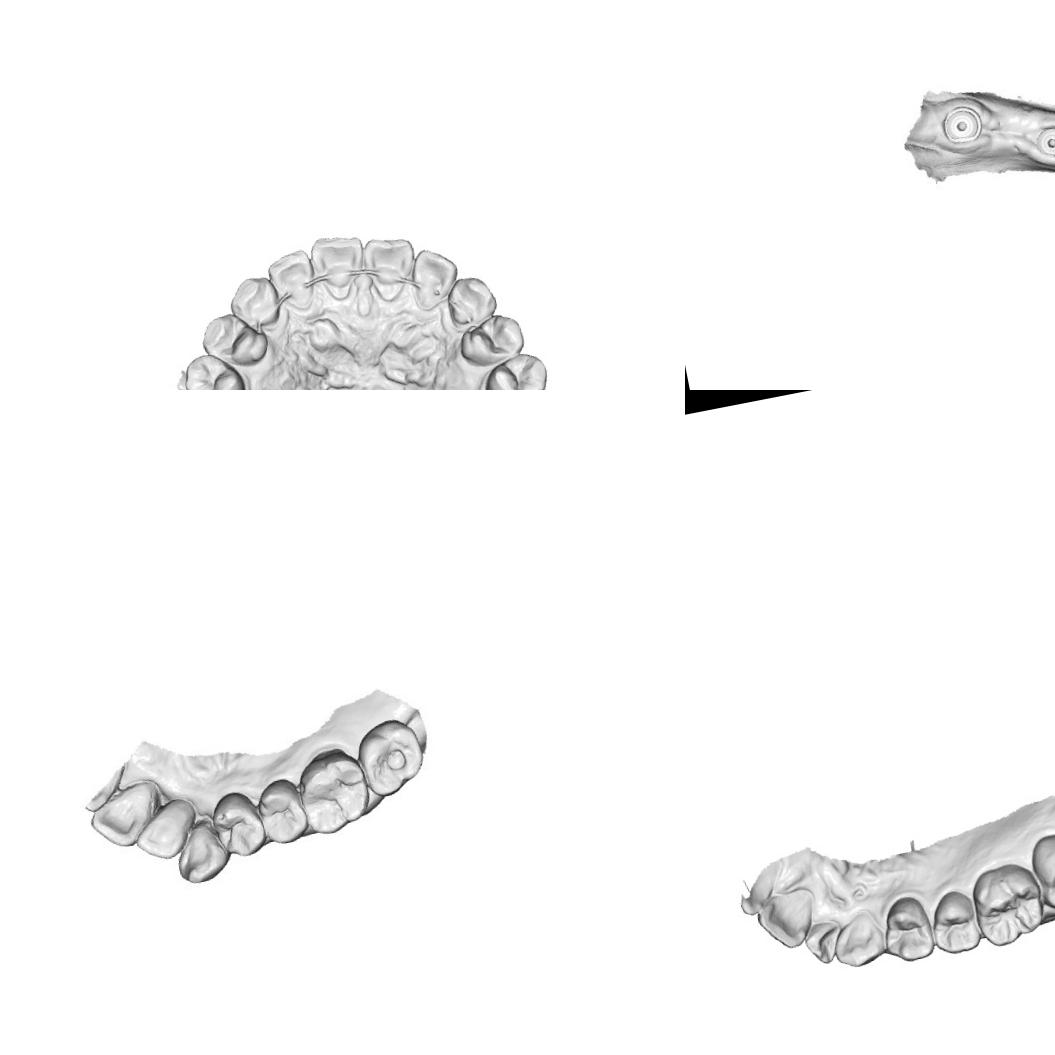canine: (171, 820, 231, 888), (438, 270, 501, 332), (828, 908, 891, 970), (224, 271, 282, 336)
implant: (936, 100, 988, 148), (1031, 120, 1055, 161)
incisor: (83, 782, 166, 852), (305, 227, 374, 305), (751, 882, 822, 955), (359, 229, 423, 304), (402, 241, 465, 312), (262, 245, 322, 316), (130, 801, 196, 865), (800, 916, 847, 966)
molar: (294, 744, 376, 839), (967, 858, 1050, 951), (350, 713, 428, 803), (1027, 825, 1055, 914)
premolar: (195, 305, 272, 374), (206, 787, 270, 863), (453, 308, 530, 371), (250, 772, 313, 849), (923, 884, 984, 958), (877, 892, 937, 965), (175, 344, 251, 390), (476, 347, 553, 390)
